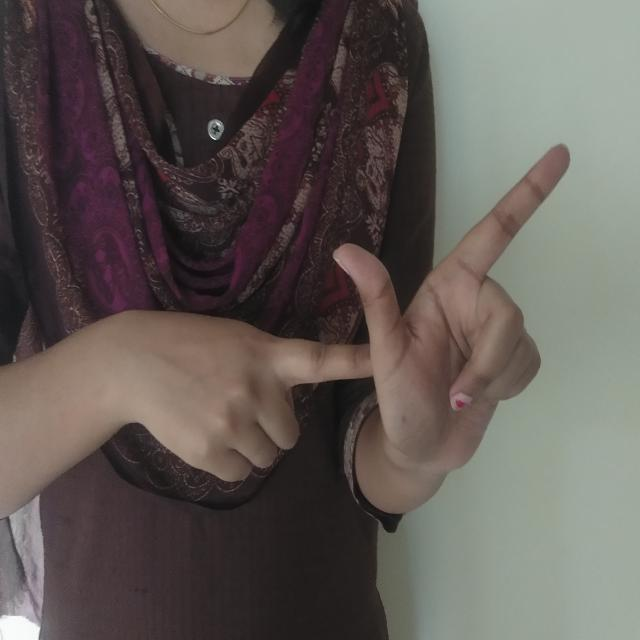Y: (125, 125, 576, 495)
